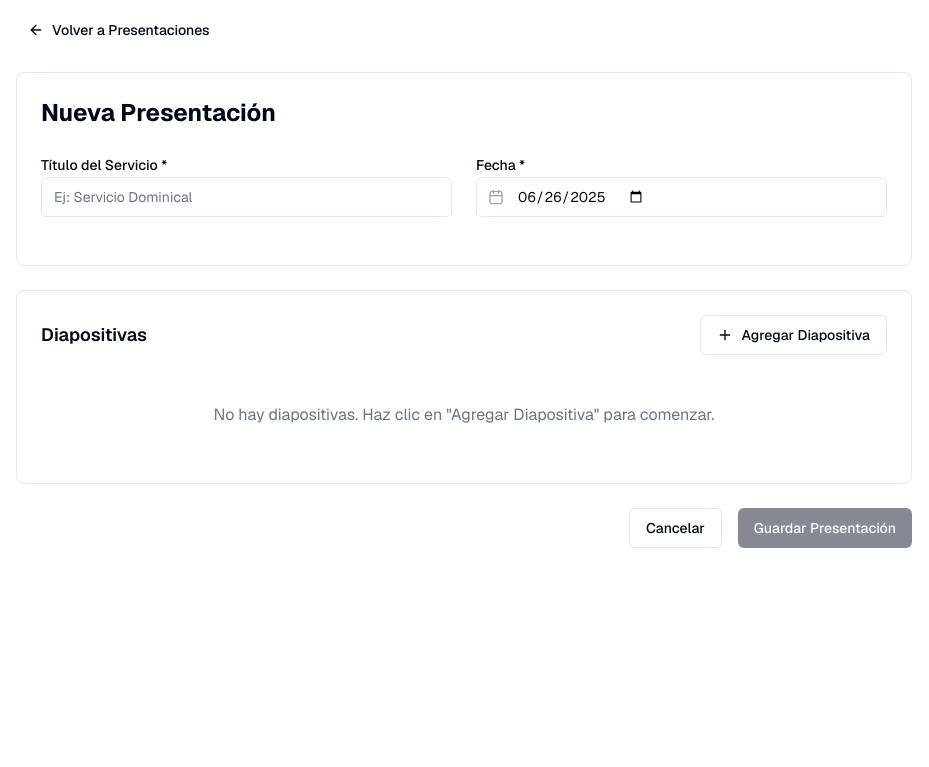
Test: PresentationBuilderPage › displays slide type options when adding a slide
Click the button "Agregar Diapositiva".
click(794, 335)  # box x1=700 y1=315 x2=887 y2=355
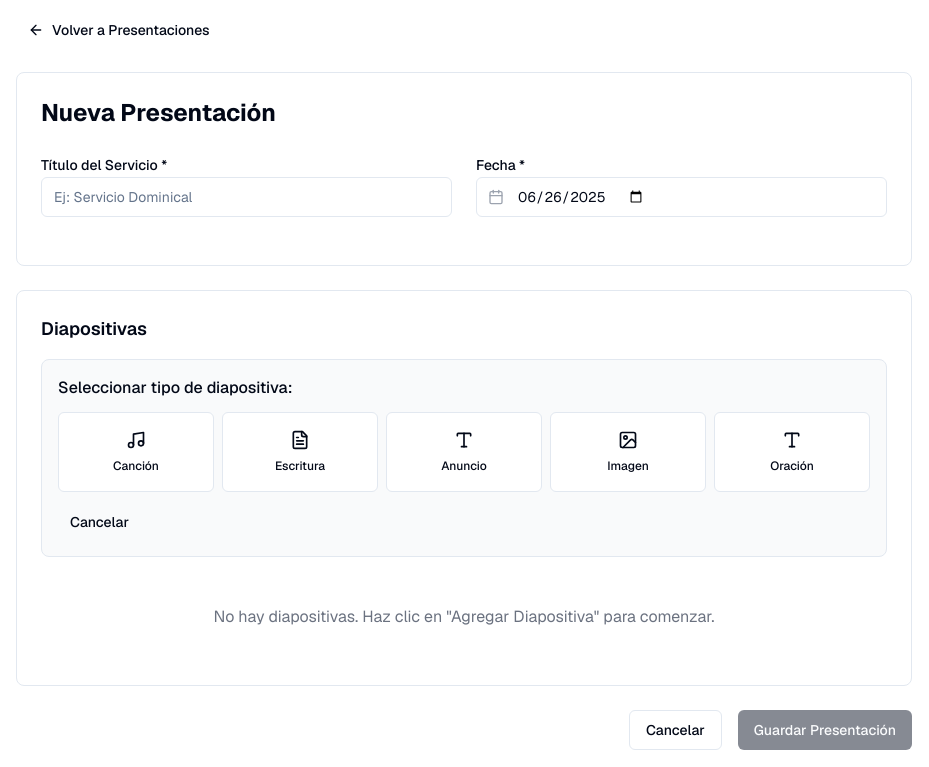
Result: the heading "Seleccionar tipo de diapositiva:" is shown at x1=58 y1=377 x2=292 y2=398
Result: the text "Canción" is shown at x1=113 y1=458 x2=159 y2=474
Result: the text "Escritura" is shown at x1=275 y1=458 x2=325 y2=474
